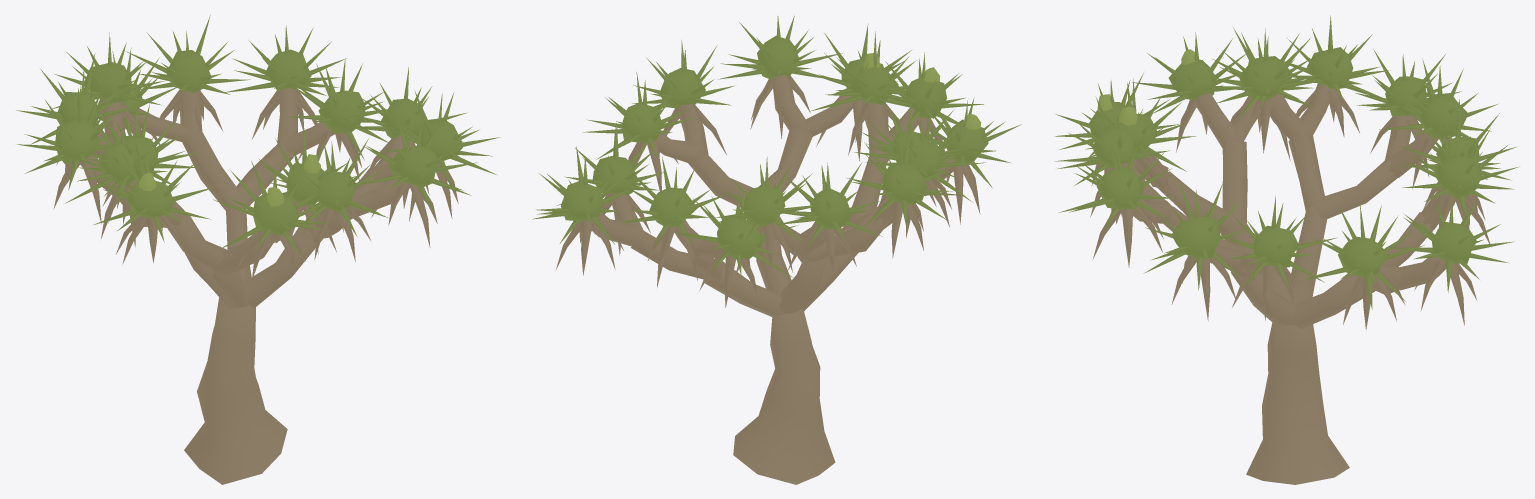
Rendered from Blender_JoshuaTree_1.glb.
3 views of the same model, side by side, from view 1: azimuth 30°, elevation 25°; view 2: azimuth 150°, elevation 25°; view 3: azimuth 270°, elevation 25° (orthographic). The views are drawn at different scales.
Visible parts, largest first — view 1: Blender_JoshuaTree_1; view 2: Blender_JoshuaTree_1; view 3: Blender_JoshuaTree_1.
Boxes of the visible parts, x1,y1,x2,y2 form: Blender_JoshuaTree_1: [16, 15, 499, 484]; Blender_JoshuaTree_1: [532, 16, 1021, 484]; Blender_JoshuaTree_1: [1054, 15, 1519, 484].
Bounding box in the file's own units: 5.93 × 5.61 × 5.96.
